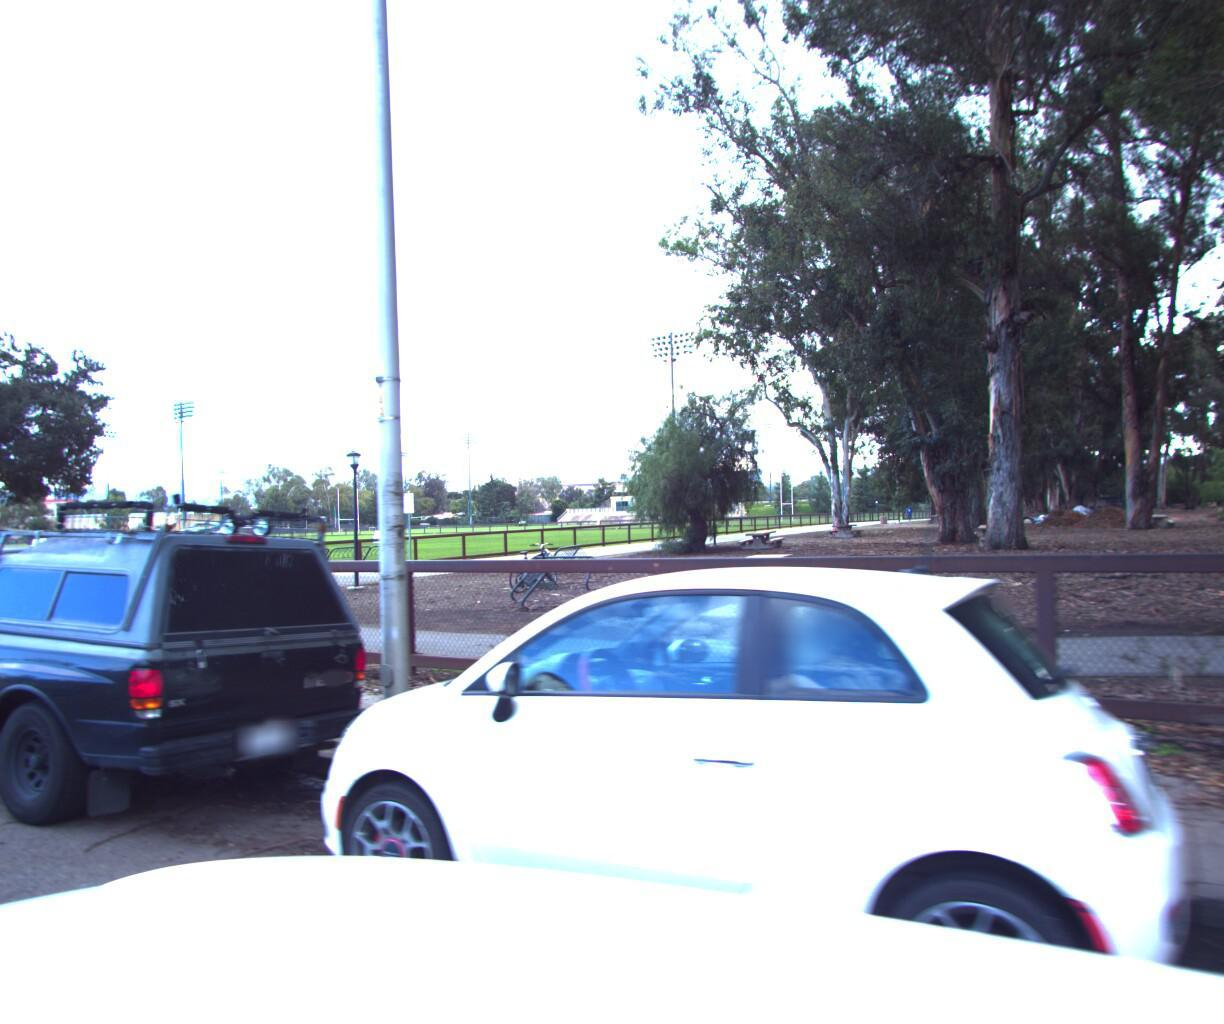bicycle: (502, 533, 574, 588)
car: (232, 490, 1207, 1024), (0, 479, 386, 874)
